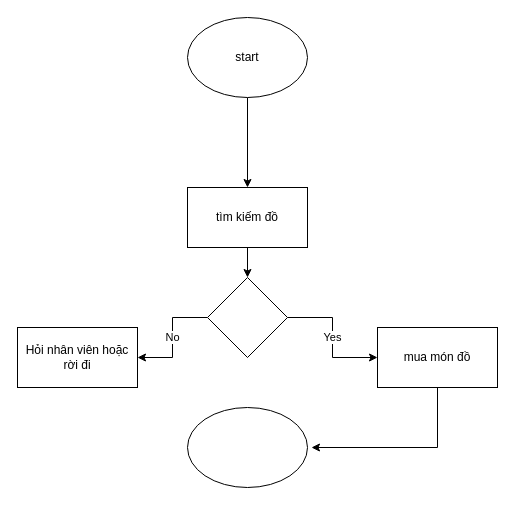
Some shapes in this 515 by 505 pixel diagram are drawn without their labels. The centre of each missing label's shape, as x and y in pixels:
end: the point at 247,447
kiểm tra món đồ: the point at 247,317
